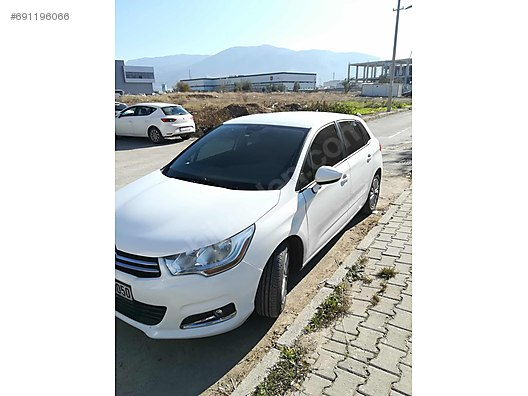citroen: (115, 111, 385, 349)
